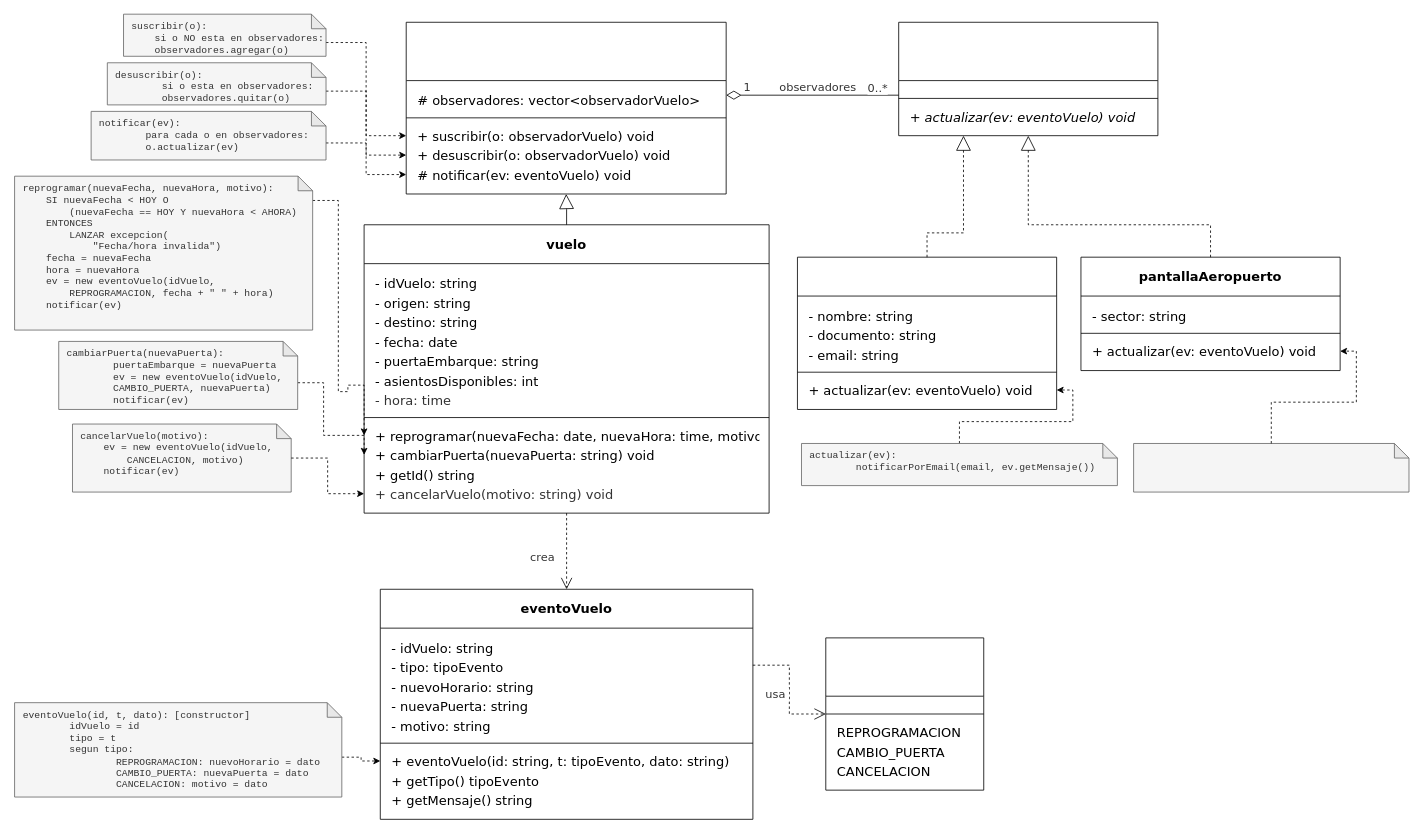
The diagram is 1423 pixels wide and 833 high, and some of its shapes have lost their labels. Here are the shapes that lost their labels. From the top down, the box of each, then its label:
(898, 21, 1158, 136): «interface» observadorVuelo
(405, 21, 726, 194): «abstract» sujeto
(797, 256, 1057, 409): pasajero
(1133, 443, 1409, 492): actualizar(ev): mostrarEnPantalla(sector, ev.getMensaje())
(825, 637, 984, 790): «enumeration» tipoEvento
